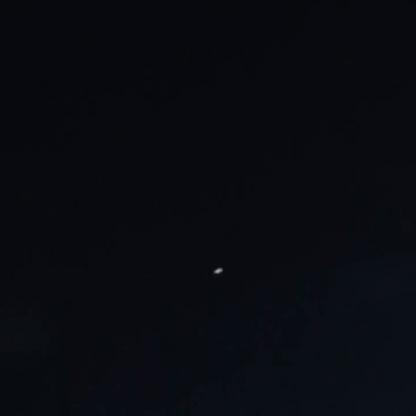ball: (209, 262, 226, 278)
